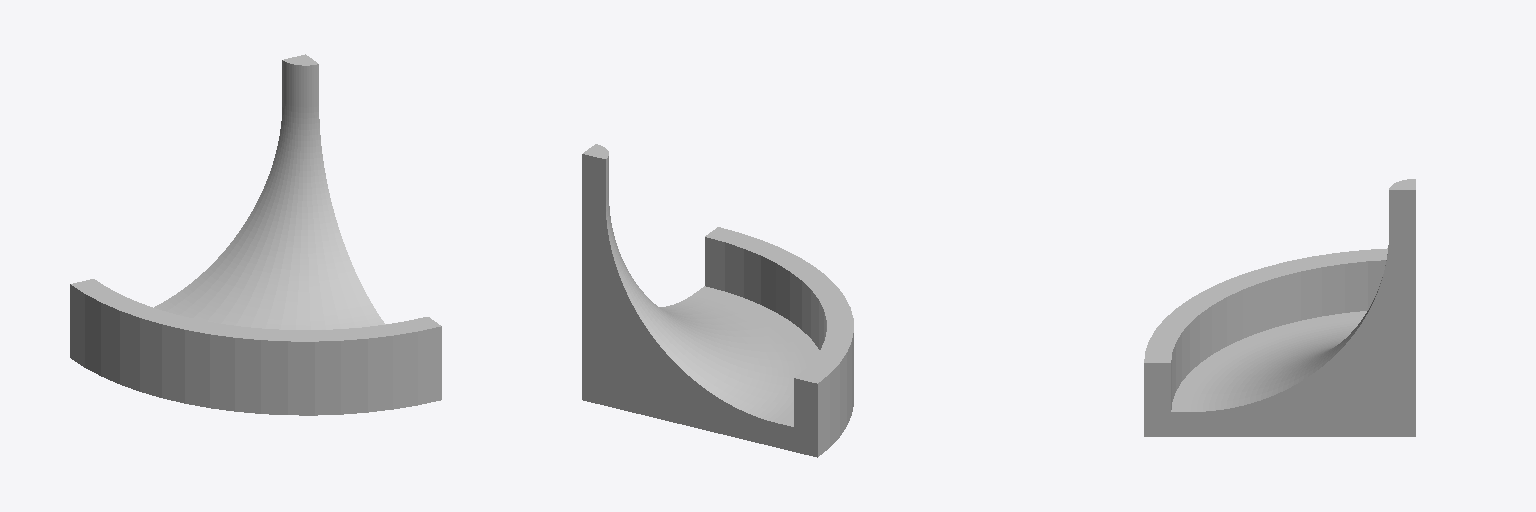
Rendered from BankedCorner2.obj.
The picture shows the model from 3 angles: view 1: azimuth 30°, elevation 25°; view 2: azimuth 150°, elevation 25°; view 3: azimuth 270°, elevation 25°; orthographic projection.
Visible parts, largest first — view 1: BankedCorner2; view 2: BankedCorner2; view 3: BankedCorner2.
Part boxes in pixels (left/top/right/bottom): BankedCorner2: left=70, top=54, right=441, bottom=415; BankedCorner2: left=582, top=144, right=853, bottom=457; BankedCorner2: left=1144, top=179, right=1415, bottom=436.
Bounding box in the file's own units: 2 × 2 × 2.